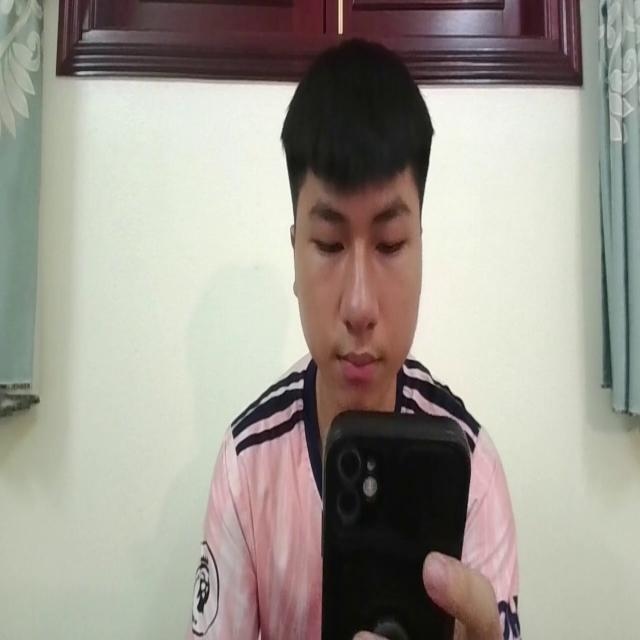student: (193, 34, 521, 640), (321, 406, 469, 640)
